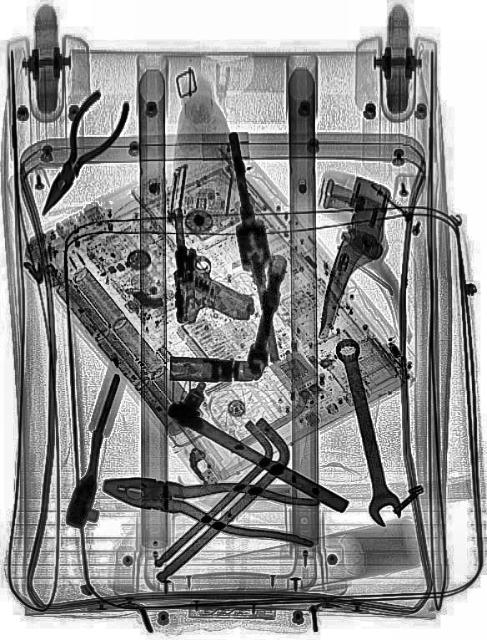Gun: (164, 198, 256, 330)
Pliers: (98, 456, 320, 550), (22, 76, 134, 232)
Wrench: (330, 333, 404, 531)
